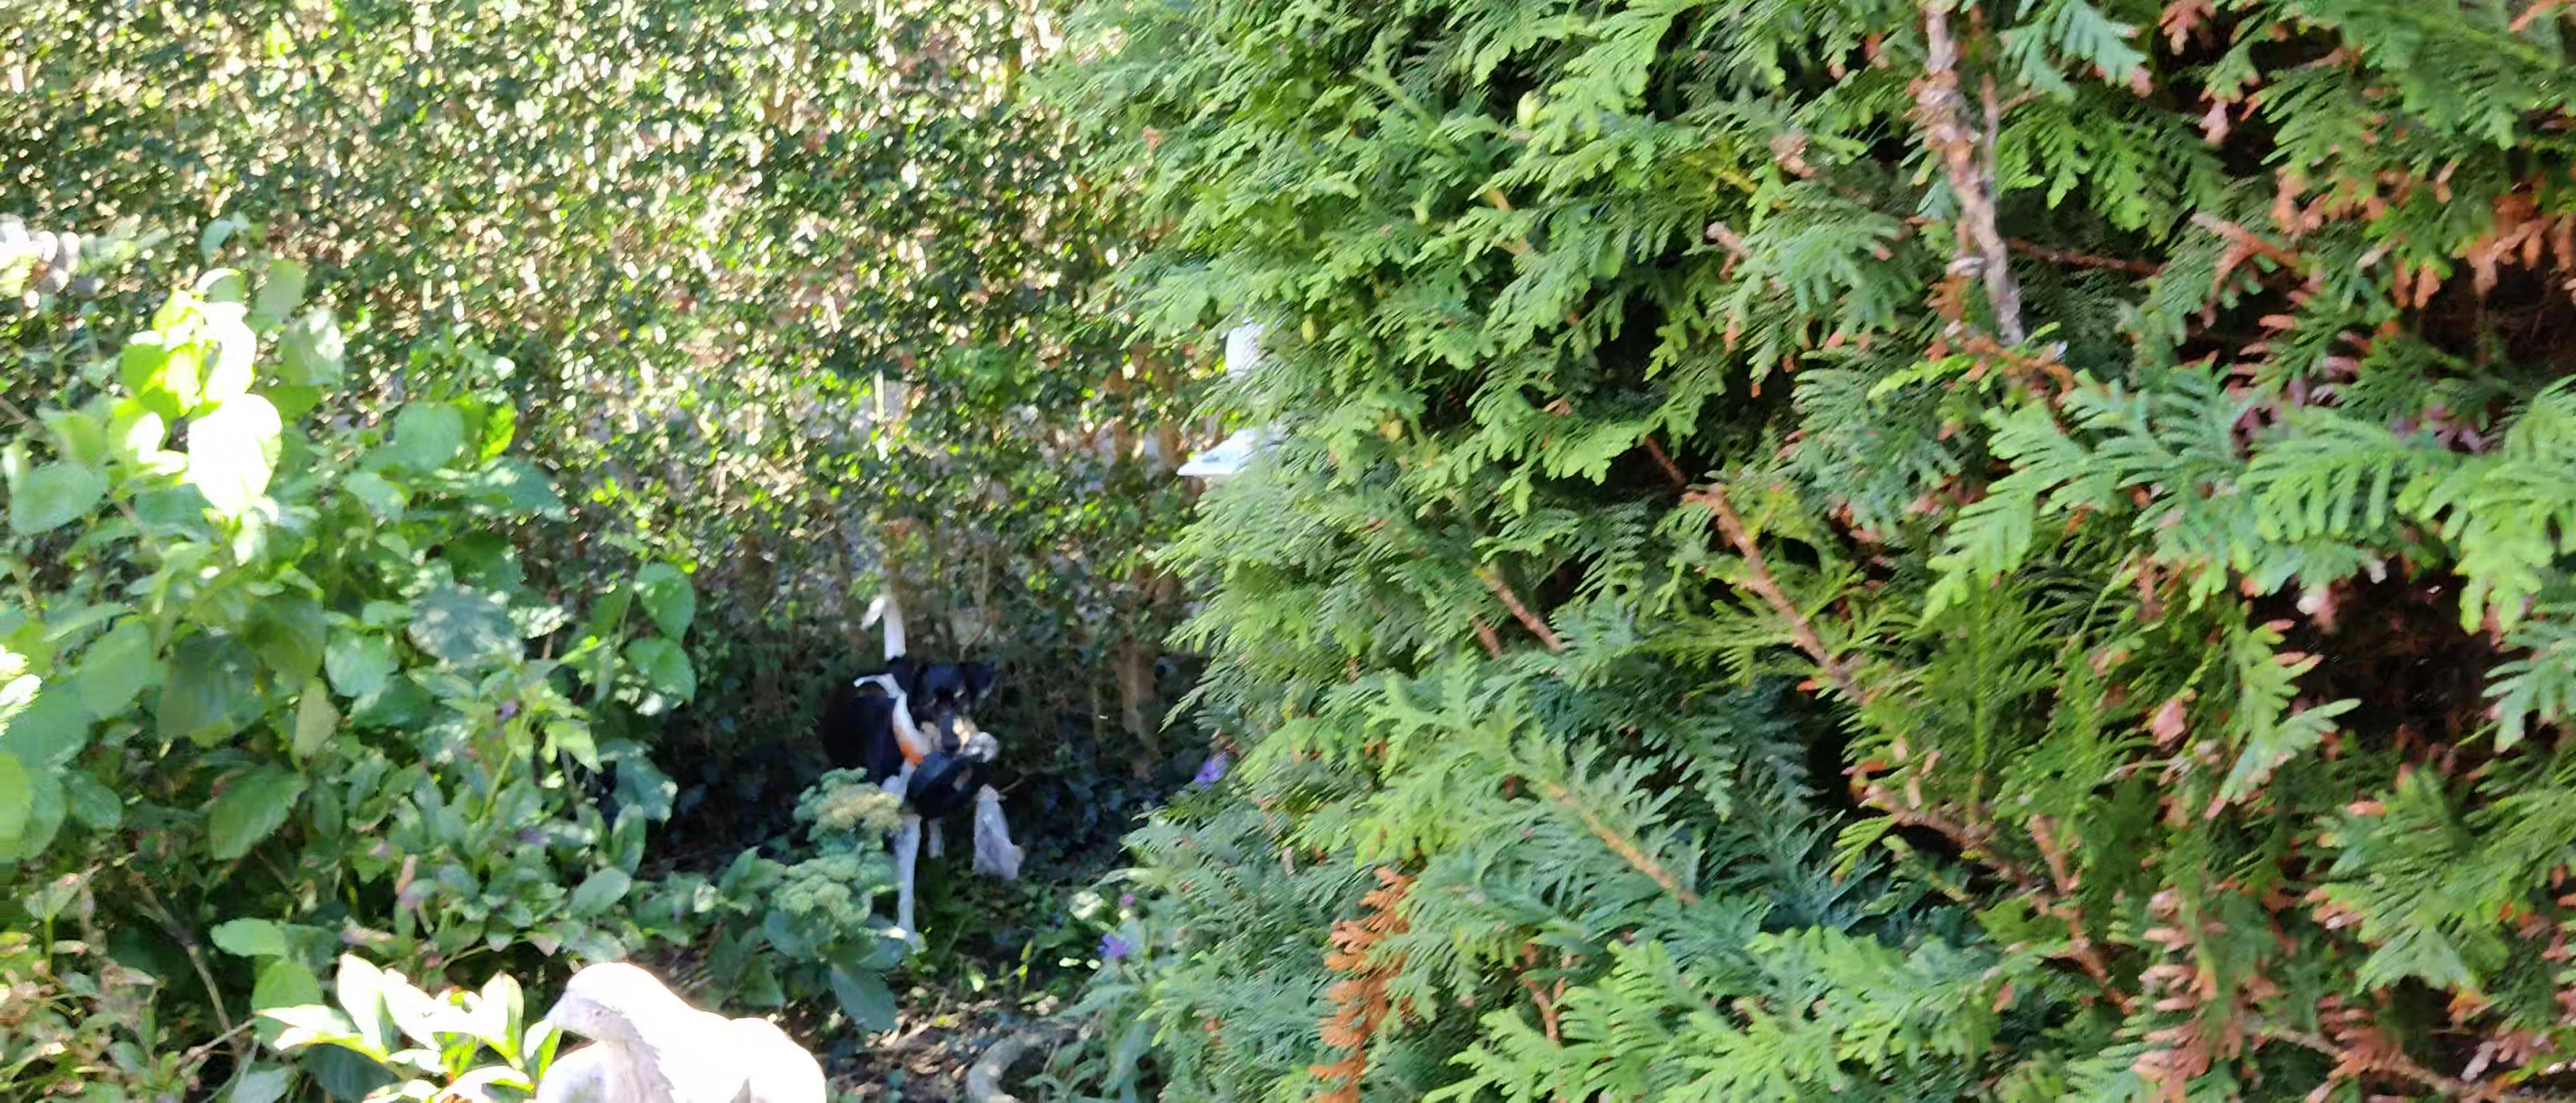Dog: (798, 585, 1014, 968)
